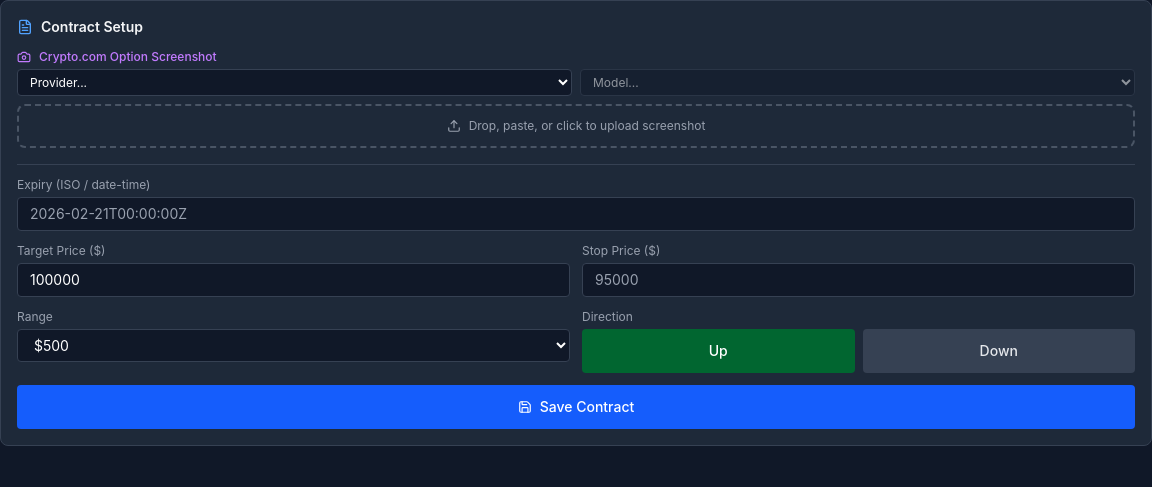
Test case: ContractSetup draft revision and server readback transitions › never shows Saved for an unsent or modified draft
// Edit target and save
Type "110000" into the number field labelled "Target Price ($)" at (294, 280), box [17,263,570,297]
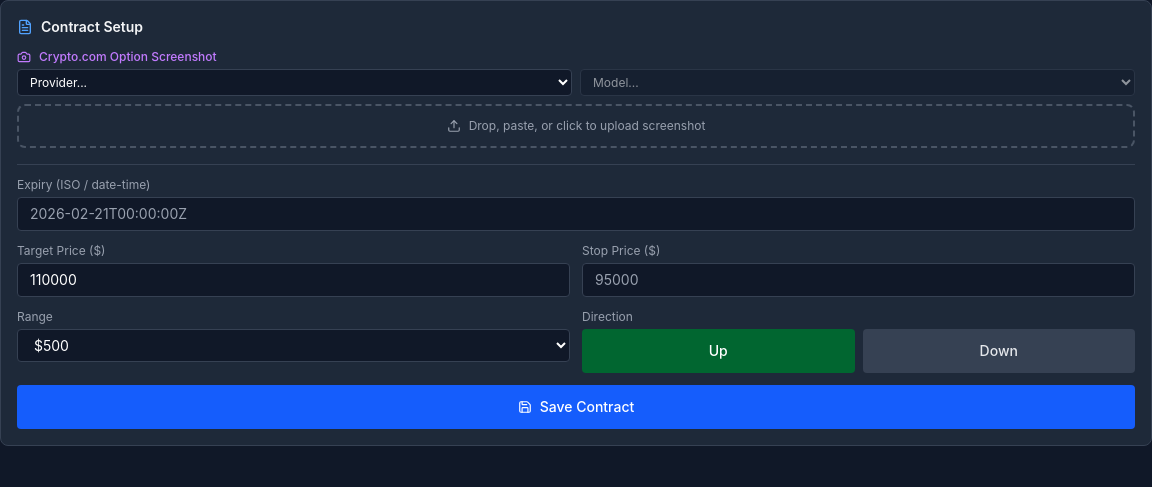
Click the button "Save Contract" at (576, 407), box [17,385,1135,429]
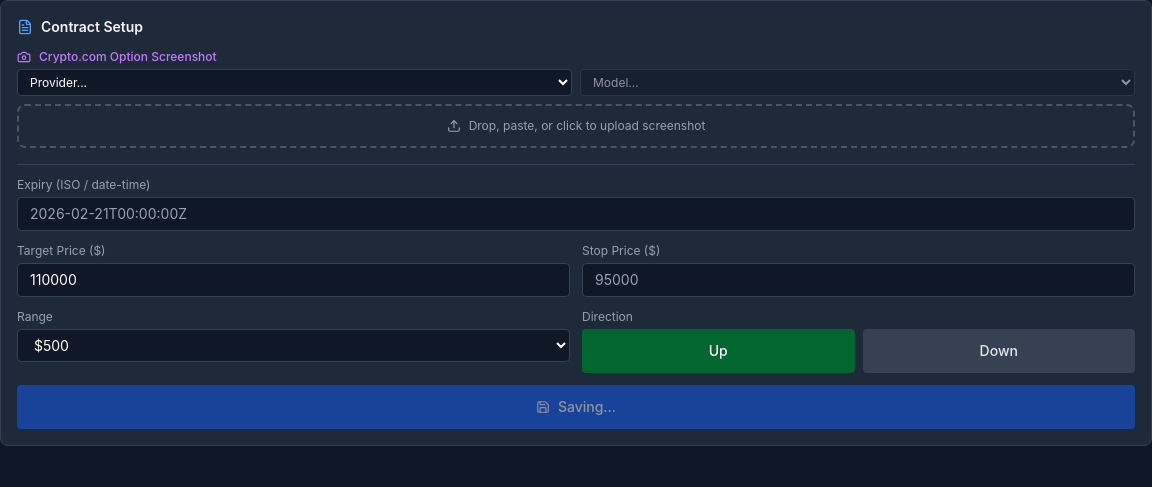
// While saving, modify target again
Replace the text in the number field labelled "Target Price ($)" with "115000" at (294, 280), box [17,263,570,297]
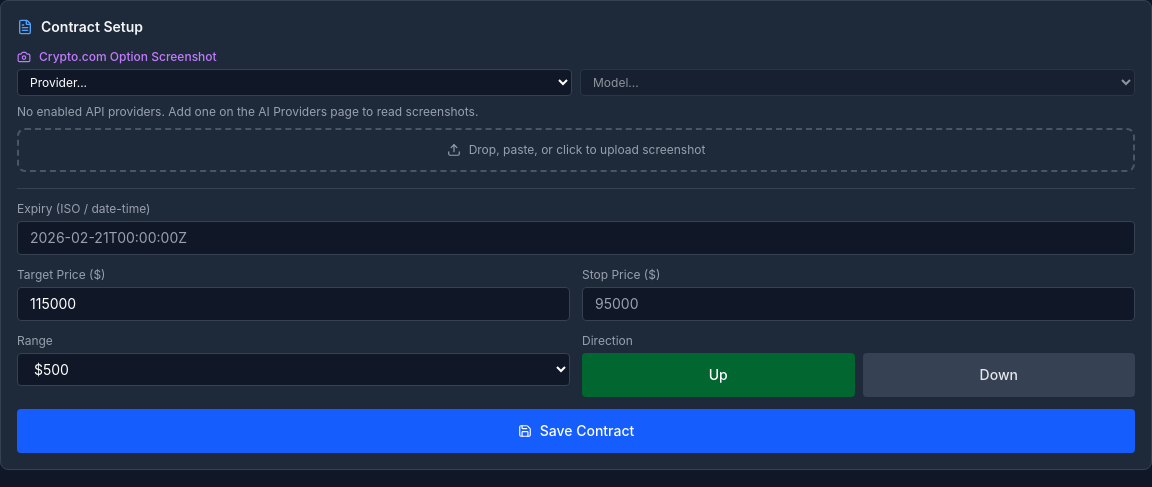
Now the button "Save Contract" is shown, box [17,409,1135,453]
